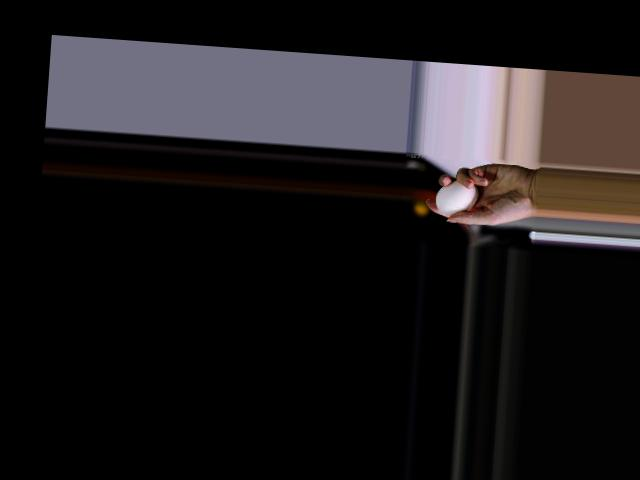egg: (433, 179, 478, 216)
